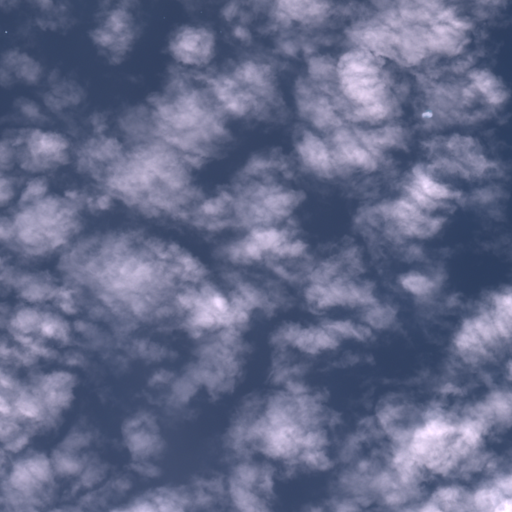Iceberg: (422, 112, 432, 117), (5, 31, 6, 32)
